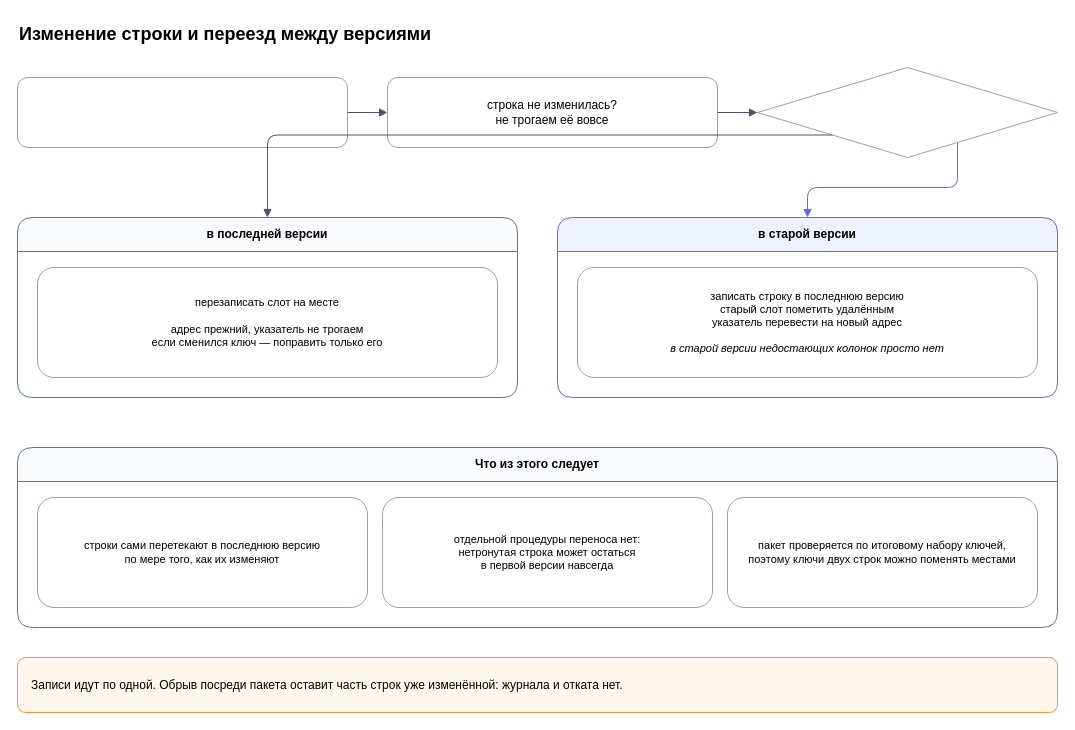
Some shapes in this 1075 by 730 pixel diagram are drawn without their labels. Here are the shapes that lost their labels. From the top down, the centre of each, then its label:
At point (182, 112): "собрать новые варианты строк и проверить весь пакет до записи".
At point (907, 112): "где лежит строка?".
